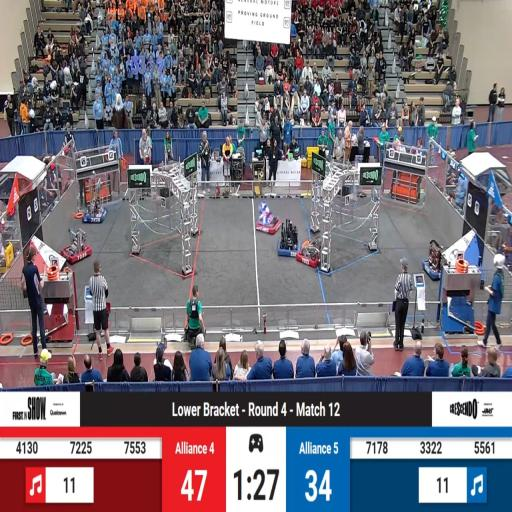robot: (63, 229, 92, 264), (422, 240, 447, 280), (276, 218, 300, 257), (256, 199, 281, 236), (296, 236, 326, 266)
